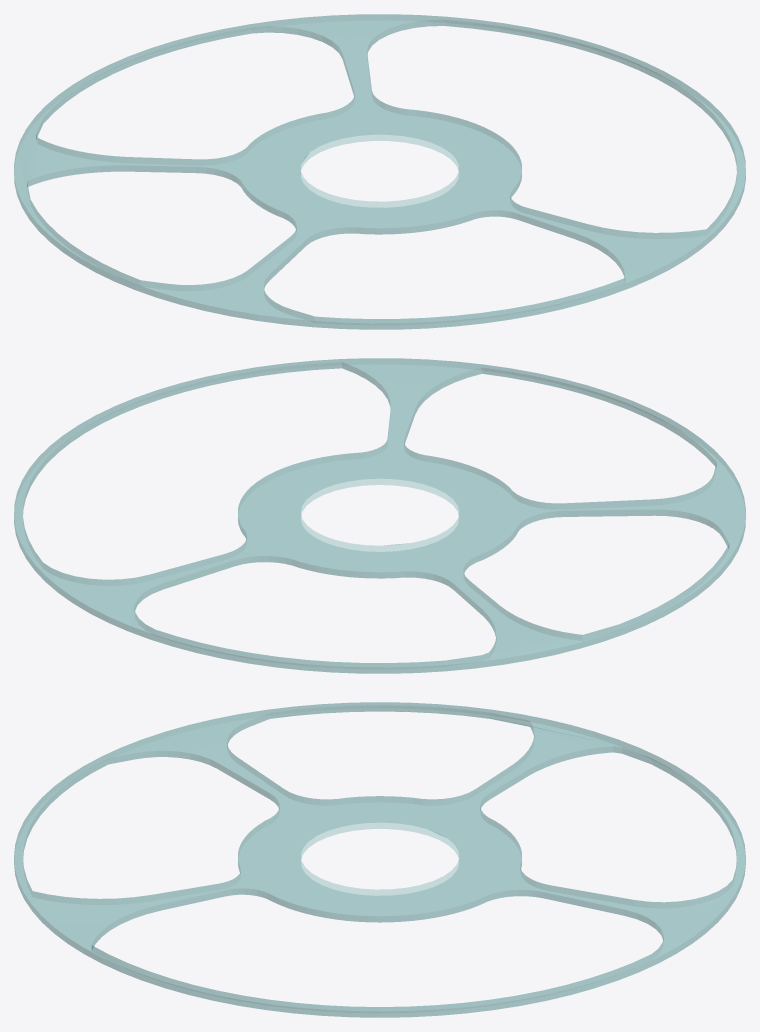
File: Test_glassFloor.fbx
3 views of the same model, one above another, from view 1: azimuth 30°, elevation 25°; view 2: azimuth 150°, elevation 25°; view 3: azimuth 270°, elevation 25° (orthographic).
Visible parts, largest first — view 1: SmartSeparate_11; view 2: SmartSeparate_11; view 3: SmartSeparate_11.
Part boxes in pixels (x1,y1,x2,y2): SmartSeparate_11: (14,14,745,329); SmartSeparate_11: (14,358,745,673); SmartSeparate_11: (14,702,745,1017).
Size of the model in its own units: 1373 by 14.53 by 1373.
